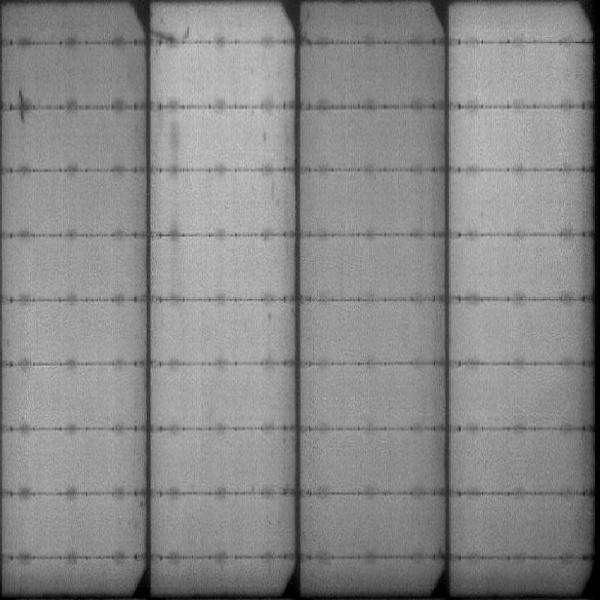scratch: (151, 28, 188, 48), (14, 85, 30, 122)
